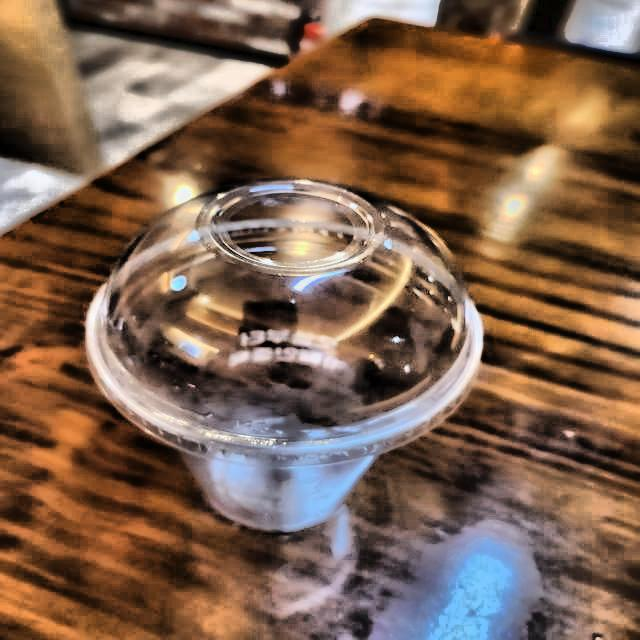plastic cup: (76, 163, 510, 562)
